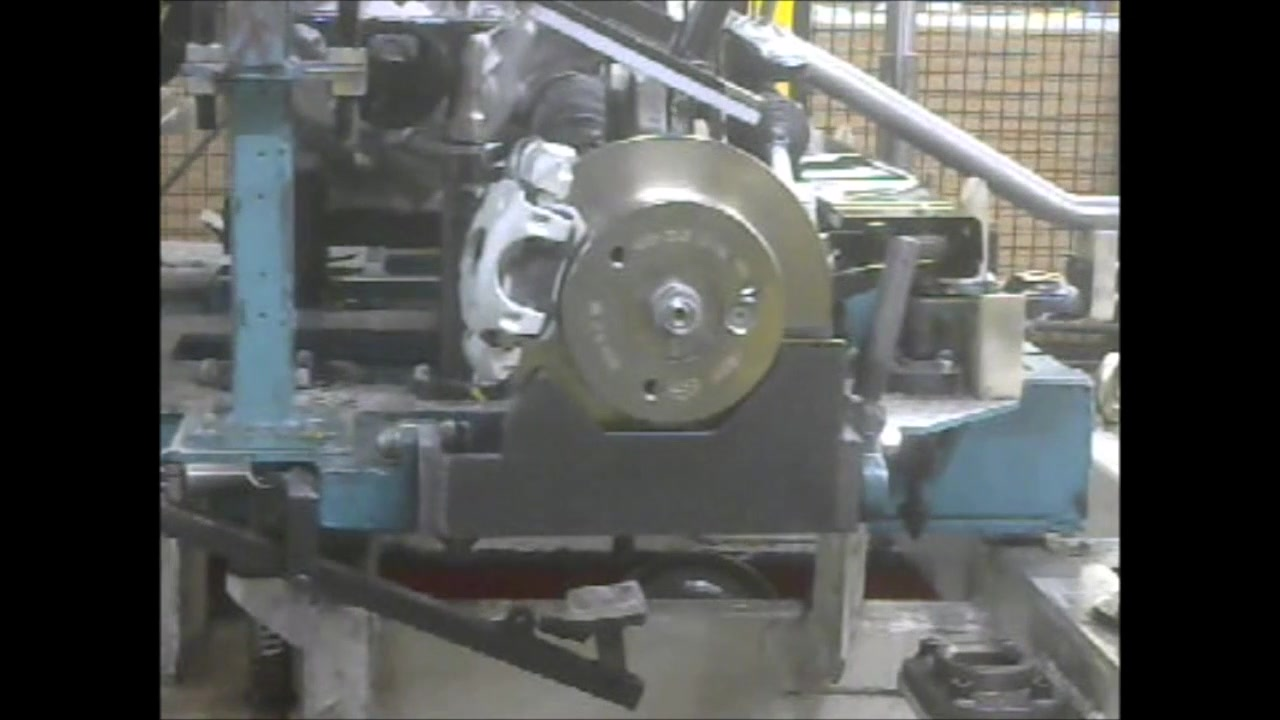DD1: (597, 131, 843, 436)
P1: (454, 133, 588, 391)
